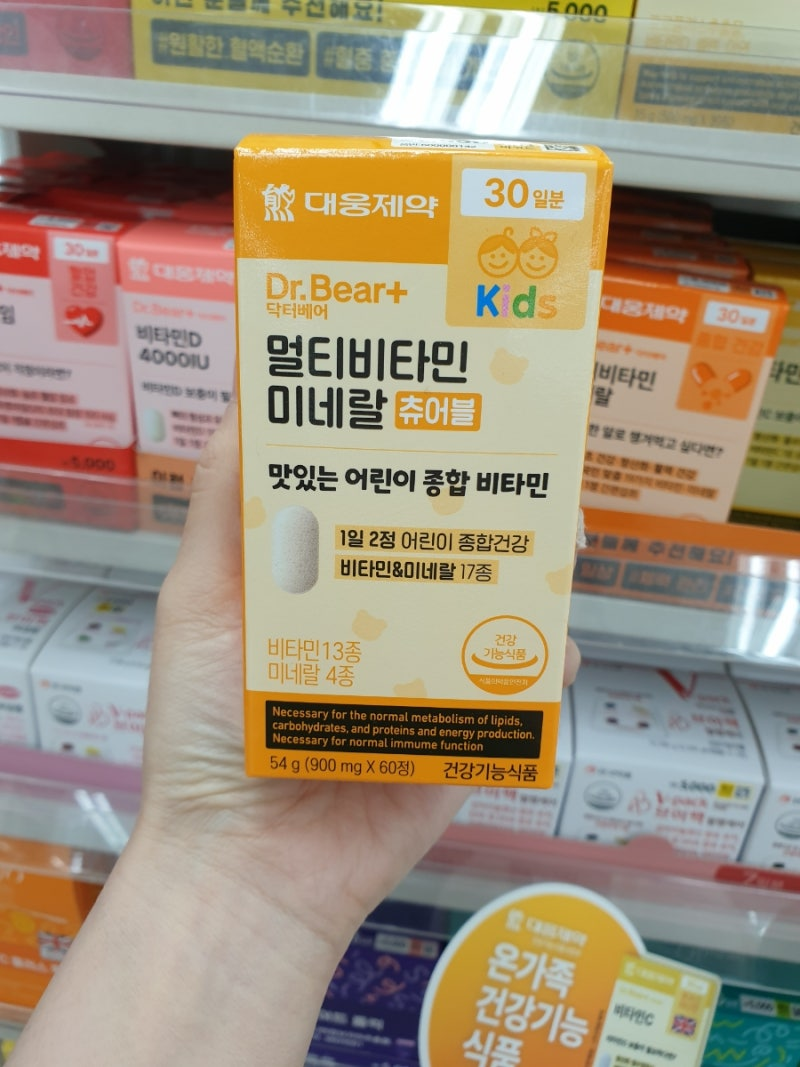supplement_label: (216, 134, 617, 794)
